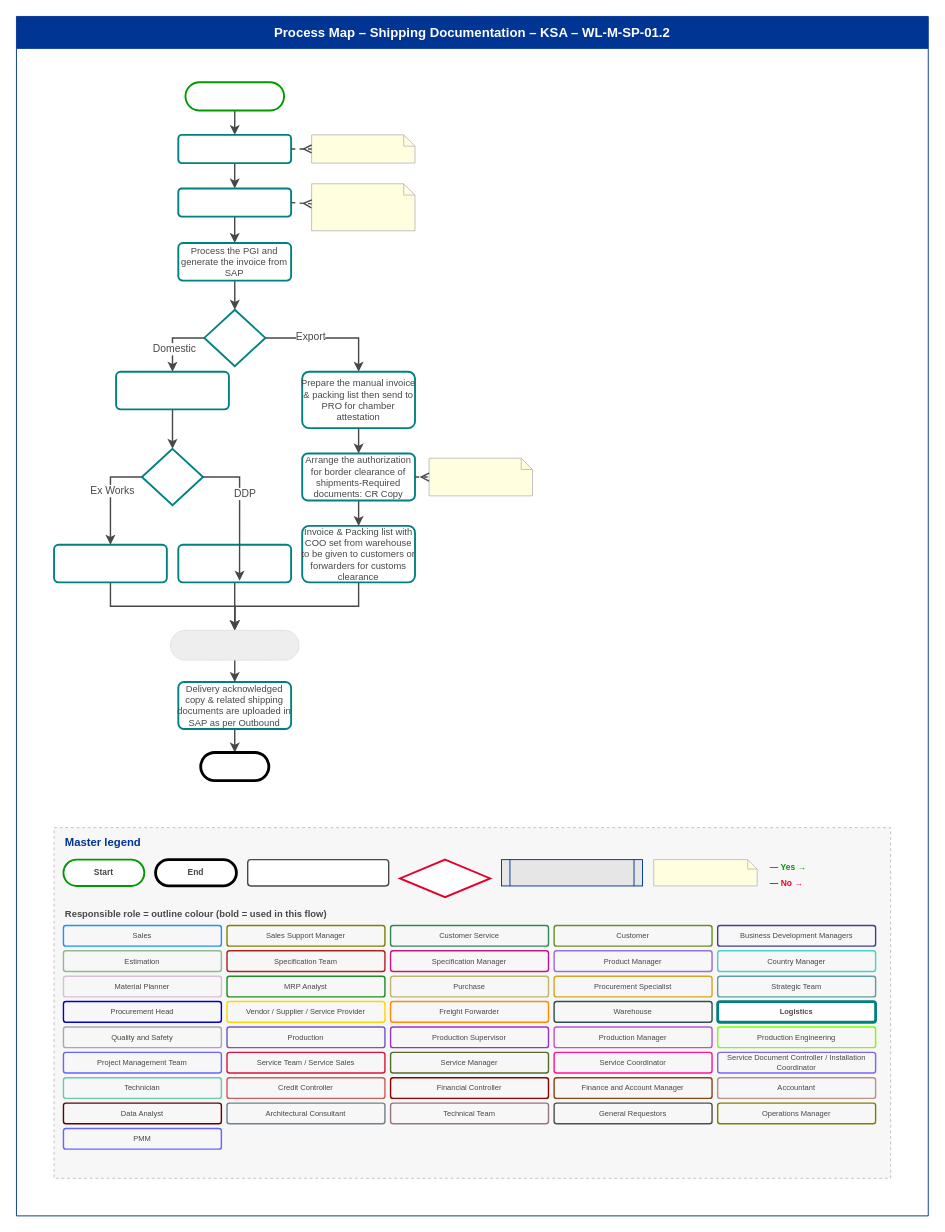
This 945x1232 diagram has some shape labels left out. Each missing label, with the box of its shape:
-manual input in excel: (311, 134, 415, 163)
Activity (outline = role): (247, 859, 389, 886)
Decision: (399, 858, 491, 898)
Delivery Note is given to customer during the collection of shipment: (53, 543, 167, 583)
Delivery Note is given to forwarder during the collection of shipment: (177, 543, 292, 583)
DISPATCH PROCESS Ref S#: WL-M-OB-02: (170, 630, 299, 660)
DOCUMENTATION: (184, 81, 285, 111)
EXIT: (199, 751, 270, 782)
Following Standard Process lead time: Domestic - 1-2 days Export - within 4 days: (311, 183, 415, 231)
Generate list of Outbound: (177, 133, 292, 164)
Linked process (Ref ID): (501, 859, 642, 886)
Note / checklist: (653, 859, 757, 886)
Plan Documentation and dispatch Schedule: (177, 187, 292, 217)
Print Delivery Note and provide to forwarder & Customer: (115, 370, 229, 410)
Required Document: Commercial Registration Copy: (428, 457, 533, 496)
Shipment: (203, 308, 266, 367)
Shipping Term: (141, 447, 204, 506)
